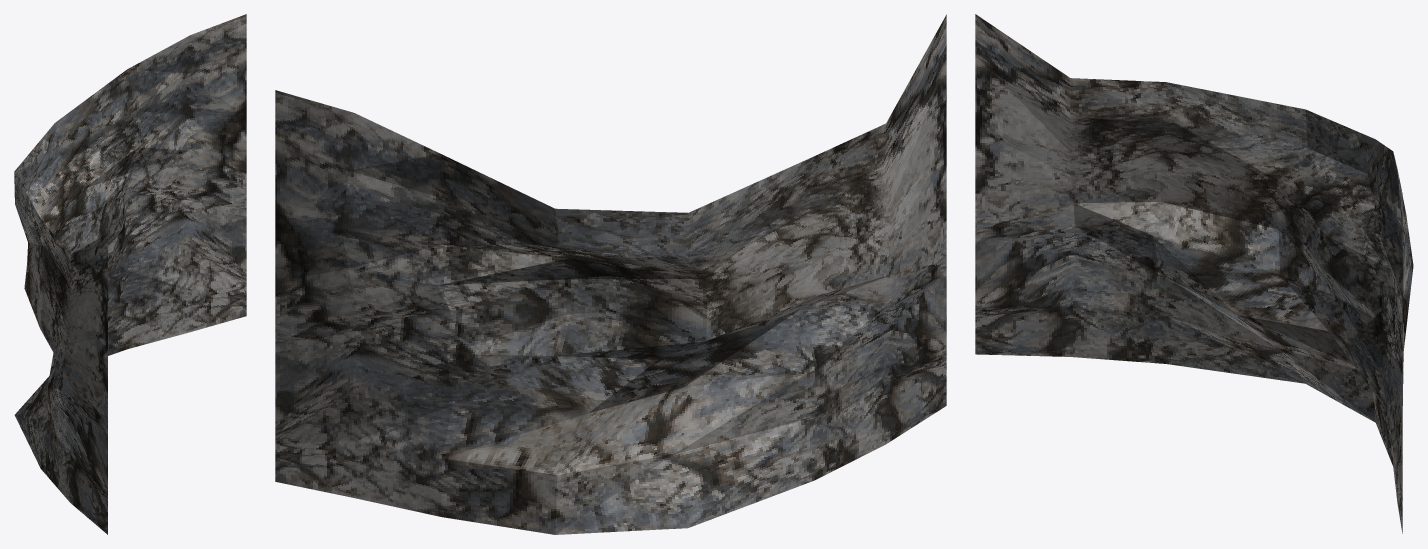
The model's file is wallTop_02_corner_02.glb.
The picture shows the model from 3 angles, left to right: view 1: azimuth 30°, elevation 25°; view 2: azimuth 150°, elevation 25°; view 3: azimuth 270°, elevation 25°; orthographic projection. The views are drawn at different scales.
Visible parts, largest first — view 1: wallTop_02_corner_02; view 2: wallTop_02_corner_02; view 3: wallTop_02_corner_02.
Boxes of the visible parts, bbox=[...] form: wallTop_02_corner_02: bbox=[14, 14, 246, 534]; wallTop_02_corner_02: bbox=[275, 14, 946, 534]; wallTop_02_corner_02: bbox=[975, 14, 1413, 533].
Size of the model in its own units: 16.07 by 14.08 by 16.41.
Materials: 1 (1 with a texture image).
